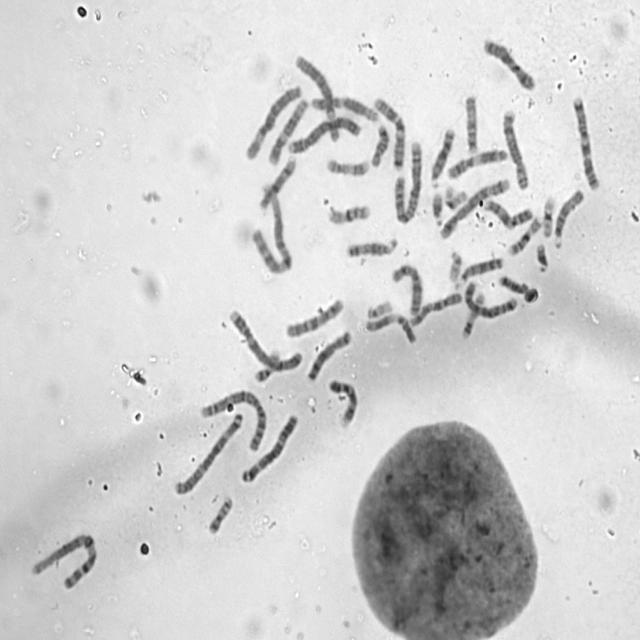A1: (27, 530, 102, 595), (251, 184, 295, 275)
A2: (198, 389, 268, 453), (392, 140, 424, 227)
A3: (172, 412, 244, 496), (239, 414, 300, 486)
B4: (226, 308, 304, 374), (287, 116, 363, 154)
B5: (438, 176, 512, 240), (464, 279, 518, 319)
C10: (283, 297, 346, 339), (408, 292, 464, 328)
C11: (445, 149, 508, 182), (363, 313, 417, 347)
C12: (266, 97, 309, 167), (310, 94, 380, 124)
C6: (242, 84, 302, 163), (294, 54, 341, 143)
C7: (572, 95, 601, 190), (372, 94, 408, 170)
C8: (306, 331, 352, 382), (502, 109, 530, 190)
C9: (326, 376, 360, 429), (484, 197, 534, 231)
D13: (429, 128, 456, 188), (459, 258, 505, 284)
D14: (258, 154, 298, 218), (344, 238, 401, 262)
D15: (552, 189, 585, 249), (465, 95, 480, 156)
E16: (506, 215, 542, 258), (324, 205, 376, 227)
E17: (459, 290, 487, 342), (323, 156, 370, 180)
E18: (370, 124, 390, 168), (499, 274, 528, 296)
F19: (541, 195, 557, 238), (444, 183, 469, 210)
F20: (206, 496, 235, 535), (254, 346, 282, 384)
G21: (432, 192, 444, 227), (536, 242, 549, 274)
G22: (366, 298, 394, 320), (446, 249, 462, 283)
X: (483, 37, 538, 94), (392, 262, 424, 318)
